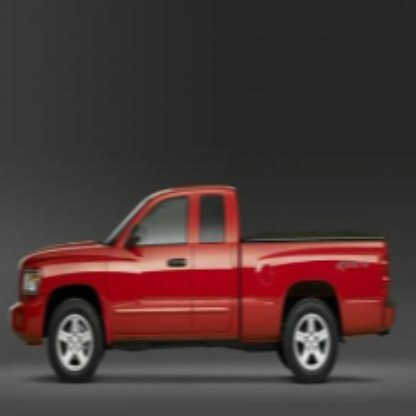Vehicle: (10, 186, 398, 386)
